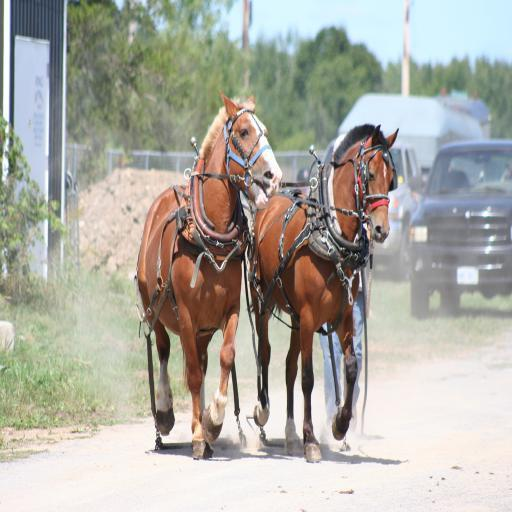horse: (136, 90, 284, 462), (247, 124, 401, 466)
